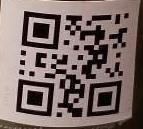qrcode: (17, 12, 131, 118)
